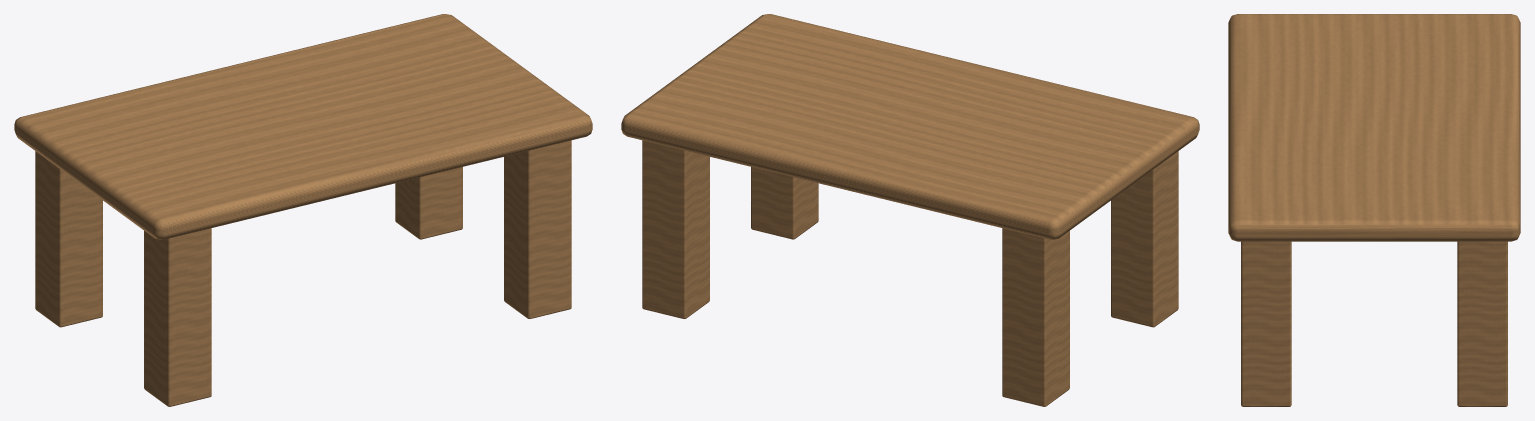
Rendered from coffee_table_campus-3680d9bf107b.glb.
3 views of the same model, side by side, from view 1: azimuth 30°, elevation 25°; view 2: azimuth 150°, elevation 25°; view 3: azimuth 270°, elevation 25° (orthographic).
Parts seen in each view (by area): view 1: surface_oak; view 2: surface_oak; view 3: surface_oak.
Part boxes in pixels (x1=…): surface_oak: x1=14, y1=14, x2=592, y2=406; surface_oak: x1=621, y1=14, x2=1199, y2=406; surface_oak: x1=1228, y1=14, x2=1520, y2=406.
Bounding box in the file's own units: 0.924 × 0.39 × 0.5358.
1 material, 1 textured.
